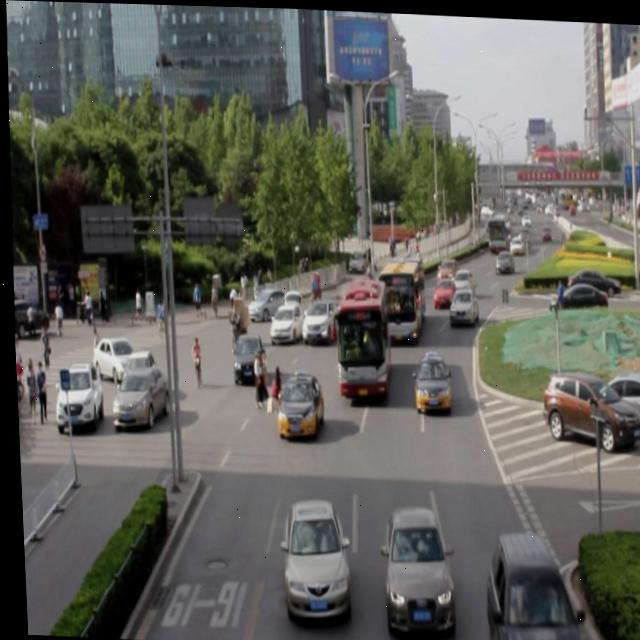car: (476, 523, 576, 640), (376, 501, 450, 628), (276, 496, 342, 614), (272, 370, 321, 440), (409, 349, 448, 411), (297, 290, 336, 344), (227, 329, 265, 380), (264, 296, 302, 340), (445, 284, 474, 323), (429, 272, 453, 306), (432, 252, 455, 286), (448, 262, 469, 296)
van: (331, 274, 386, 394), (373, 256, 422, 337)
